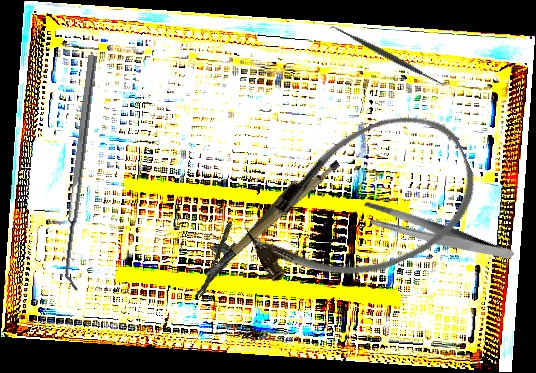Cannula: (228, 95, 494, 314)
Dressing Forceps: (357, 170, 516, 297)
Needle Holder: (178, 166, 301, 299)
Scalpel Handle: (189, 157, 353, 278)
Spatula Surgical: (59, 54, 107, 292), (328, 18, 449, 93)
